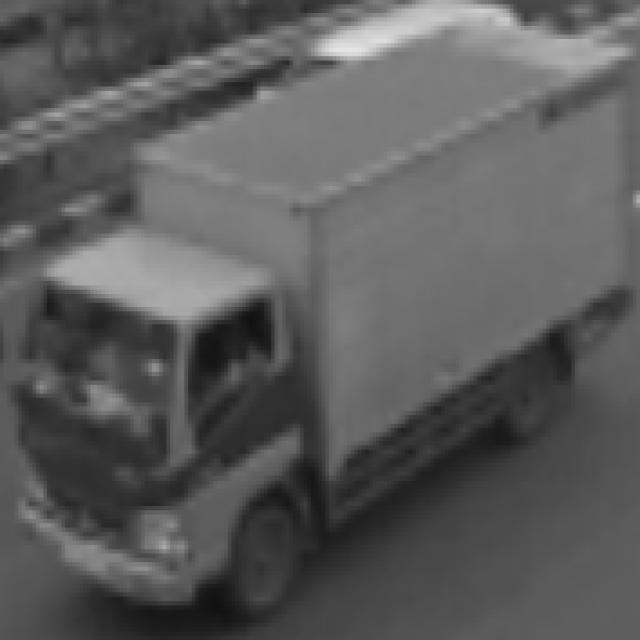truck: (1, 207, 332, 625)
